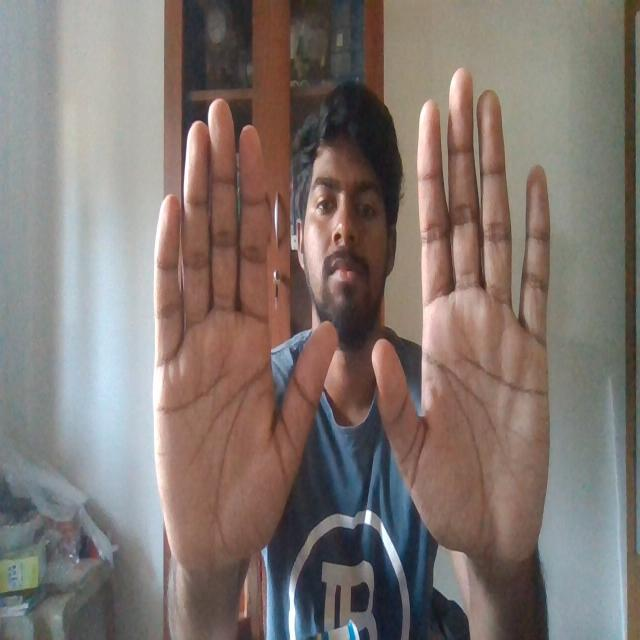ThankYou: (144, 52, 554, 598)
